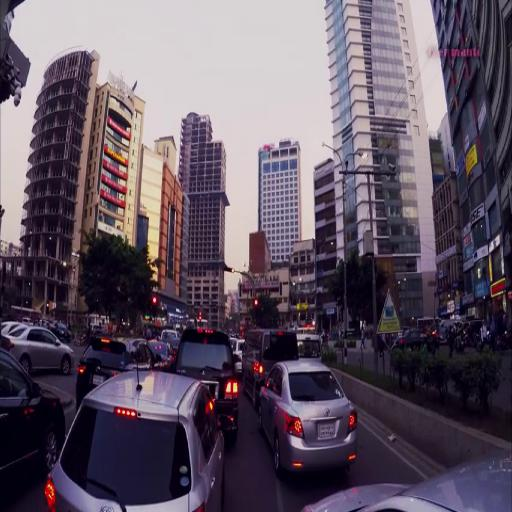car: (45, 368, 226, 512), (259, 358, 359, 475), (305, 459, 512, 510), (1, 348, 67, 500), (2, 324, 76, 377), (399, 329, 430, 350)
suv: (174, 327, 240, 445), (76, 334, 165, 408)
van: (241, 328, 300, 405), (297, 333, 326, 363)
